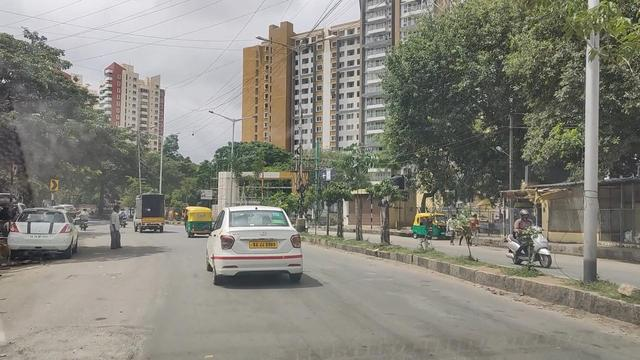LMV: (207, 198, 310, 284)
RoadDamages: (23, 314, 151, 360)
